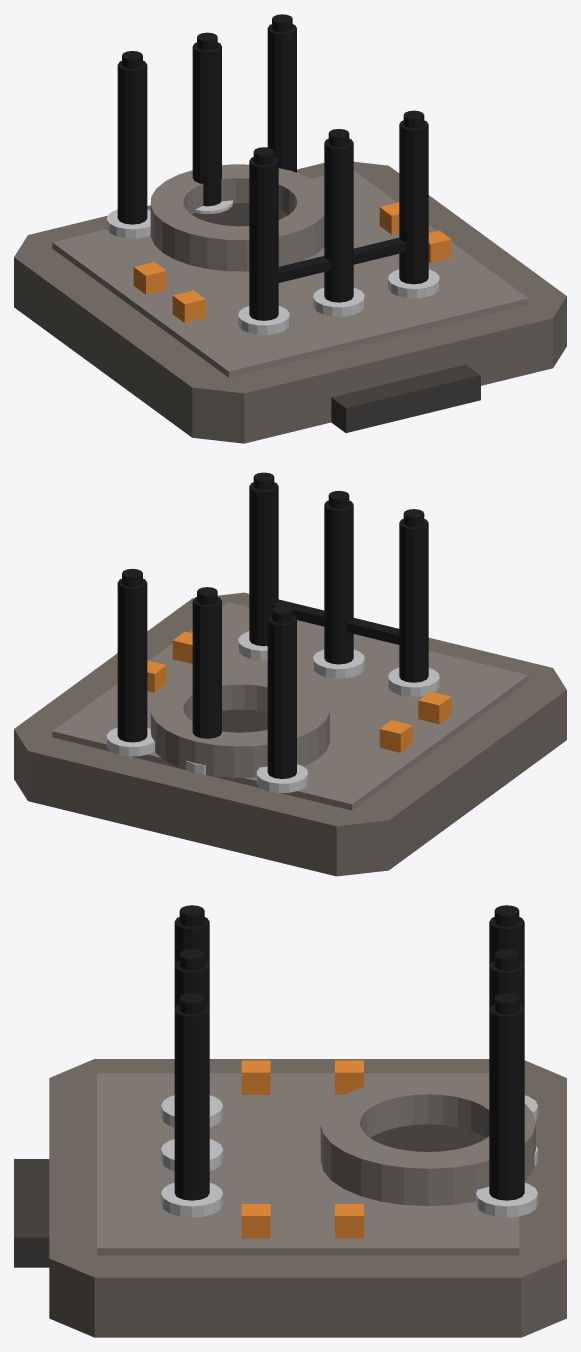
File: vge_ancient_signal_jammer.obj
3 renders of one model, top to bottom at view 1: azimuth 30°, elevation 25°; view 2: azimuth 150°, elevation 25°; view 3: azimuth 270°, elevation 25°, orthographic. The views are drawn at different scales.
Visible parts, largest first — view 1: body, top, rod, housing, notch_s, collar, lamp, cap, bar, hole; view 2: body, rod, top, housing, collar, lamp, cap, bar, hole; view 3: body, top, rod, housing, collar, lamp, notch_s, cap, hole.
Part boxes in pixels (x1,y1,x2,y2): body: [14, 161, 566, 443]; top: [52, 170, 528, 377]; rod: [117, 24, 428, 320]; housing: [150, 164, 324, 271]; notch_s: [331, 364, 480, 432]; collar: [106, 173, 439, 334]; lamp: [133, 202, 451, 322]; cap: [122, 14, 424, 165]; bar: [278, 237, 406, 282]; hole: [192, 203, 288, 226]; body: [14, 592, 566, 876]; rod: [117, 482, 428, 778]; top: [52, 602, 528, 810]; housing: [150, 670, 329, 777]; collar: [106, 631, 439, 792]; lamp: [147, 631, 451, 752]; cap: [122, 472, 424, 623]; bar: [271, 599, 399, 644]; hole: [192, 709, 267, 732]; body: [49, 1059, 566, 1337]; top: [97, 1073, 519, 1255]; rod: [174, 917, 524, 1200]; housing: [320, 1077, 535, 1206]; collar: [161, 1095, 537, 1217]; lamp: [241, 1060, 363, 1238]; notch_s: [14, 1159, 49, 1267]; cap: [179, 905, 519, 1014]; hole: [370, 1124, 485, 1151].
Size of the model in its own units: 2.5 by 1.46 by 2.67.
